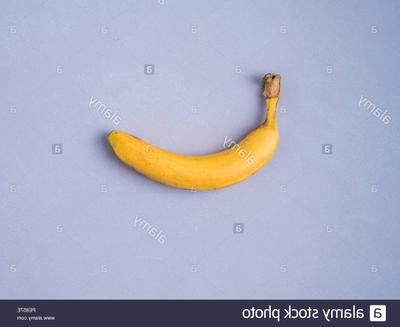banana: (0, 0, 400, 327)
